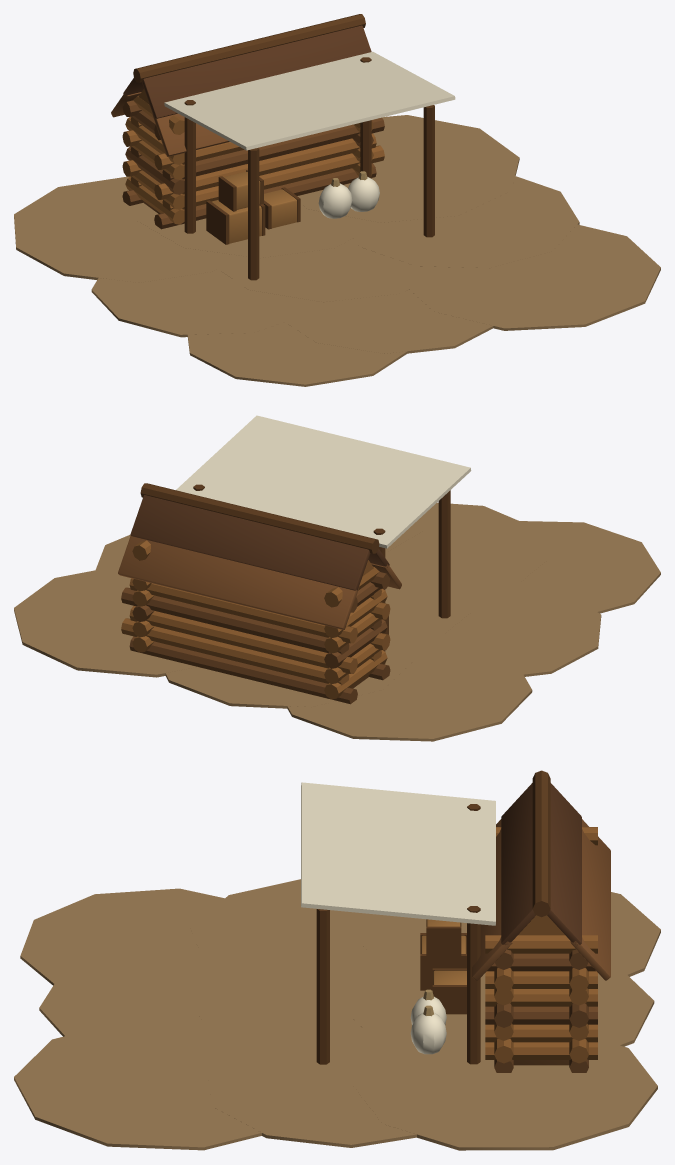
Rendered from magazyn_poz02.glb.
3 views of the same model, one above another, from view 1: azimuth 30°, elevation 25°; view 2: azimuth 150°, elevation 25°; view 3: azimuth 270°, elevation 25° (orthographic). The views are drawn at different scales.
Visible parts, largest first — view 1: magazyn_poz02; view 2: magazyn_poz02; view 3: magazyn_poz02.
Boxes of the visible parts, box(x1,y1,x2,y2) form: magazyn_poz02: box(14, 14, 660, 386); magazyn_poz02: box(14, 415, 660, 741); magazyn_poz02: box(14, 770, 660, 1150).
Size of the model in its own units: 8.55 by 2.64 by 8.6.
